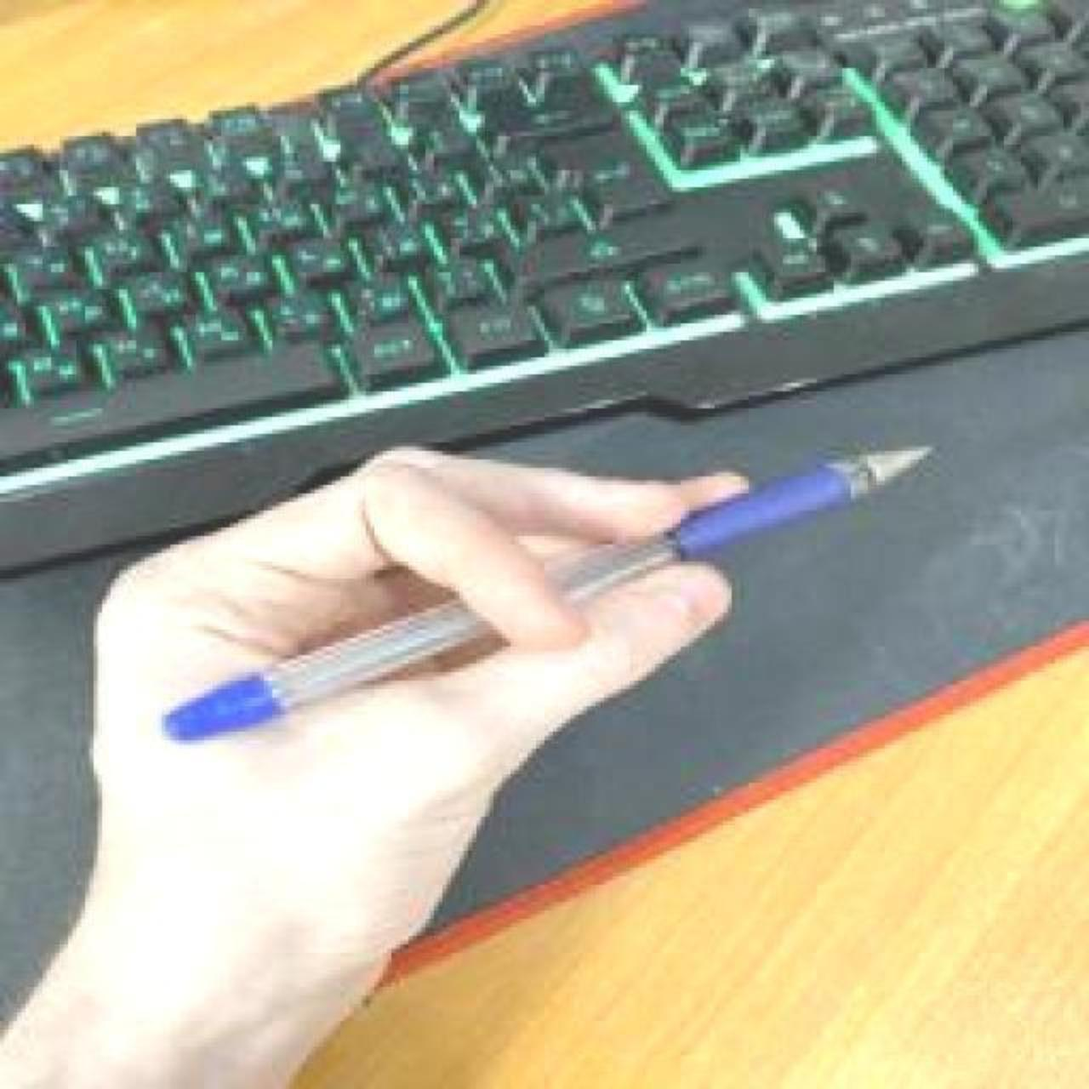pen: (167, 442, 941, 745)
